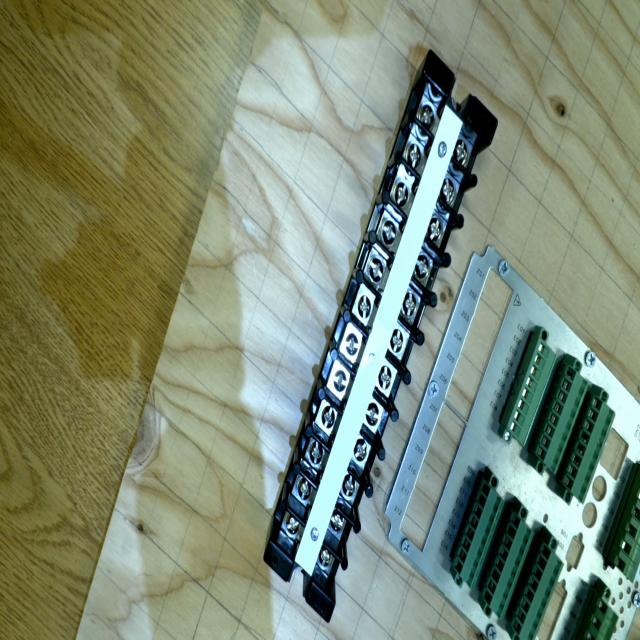Phillips_Block: (251, 50, 512, 624)
Terminal_2: (529, 364, 594, 475), (476, 508, 540, 620), (556, 393, 620, 504), (447, 478, 510, 590)
